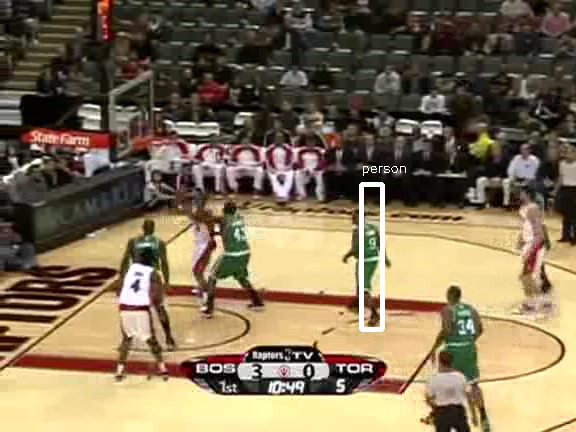person: (351, 217, 385, 298), (350, 217, 384, 298), (352, 217, 386, 298), (351, 216, 385, 297), (351, 218, 385, 299)
target_negative: (242, 16, 405, 267), (343, 86, 509, 305), (156, 48, 443, 159), (361, 84, 453, 204), (455, 351, 501, 392), (133, 420, 403, 421)
